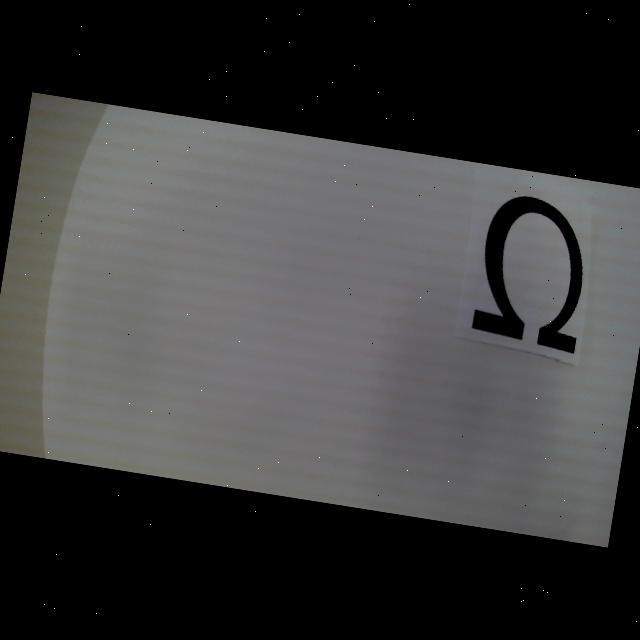OMEGA: (470, 191, 598, 355)
